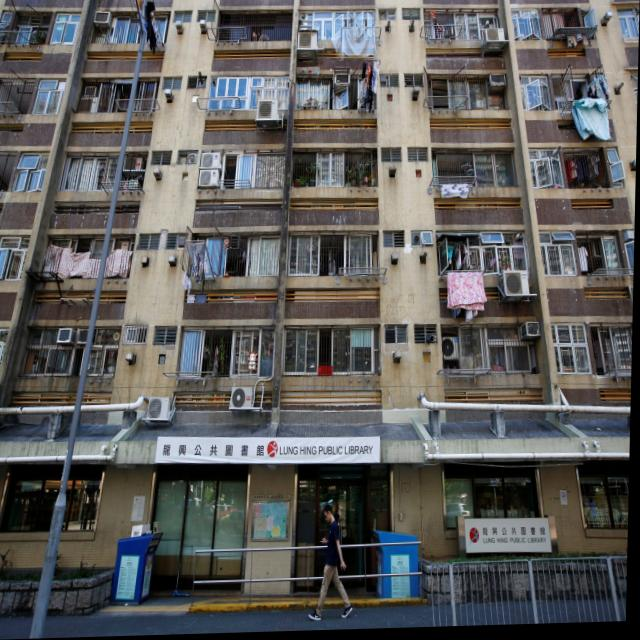Fully_opened: (292, 151, 378, 188), (217, 11, 293, 44)
Partially_opened: (182, 329, 275, 377), (284, 330, 381, 376), (286, 236, 379, 277)
closed: (208, 79, 289, 112)
